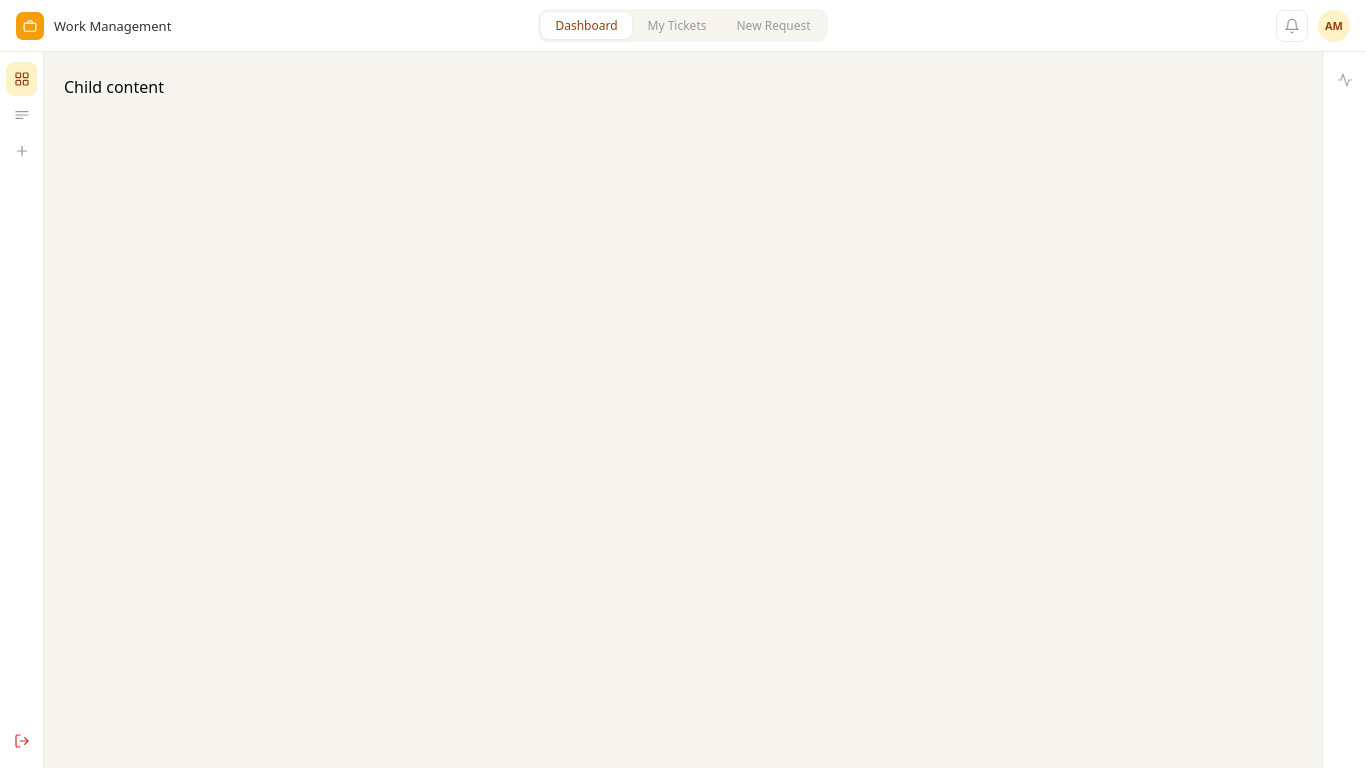
Test: AppShell › shows recent activity when right panel is hovered
Hover over the element with class "right-panel" at (1344, 410), box [1322,52,1365,767]
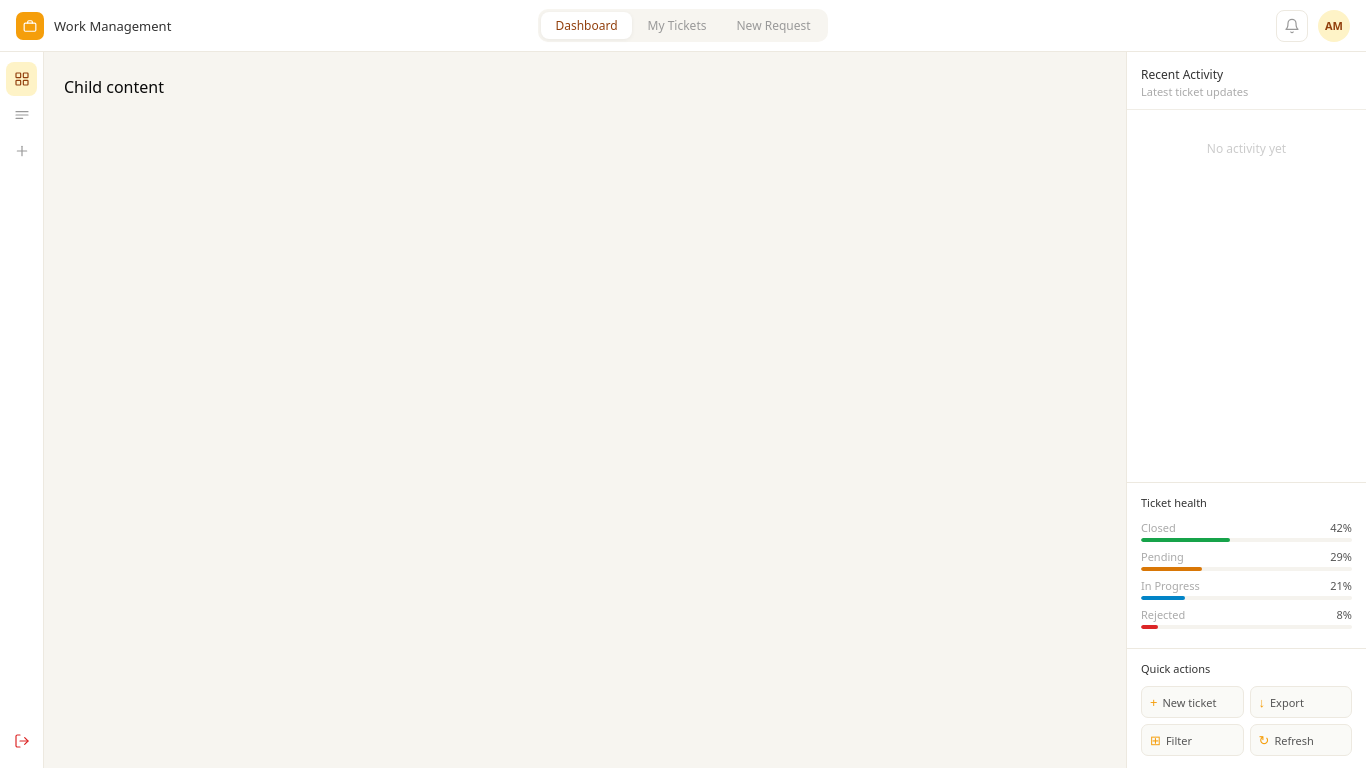
Expected: the text "Recent Activity" is shown, [1141,66,1223,83]
